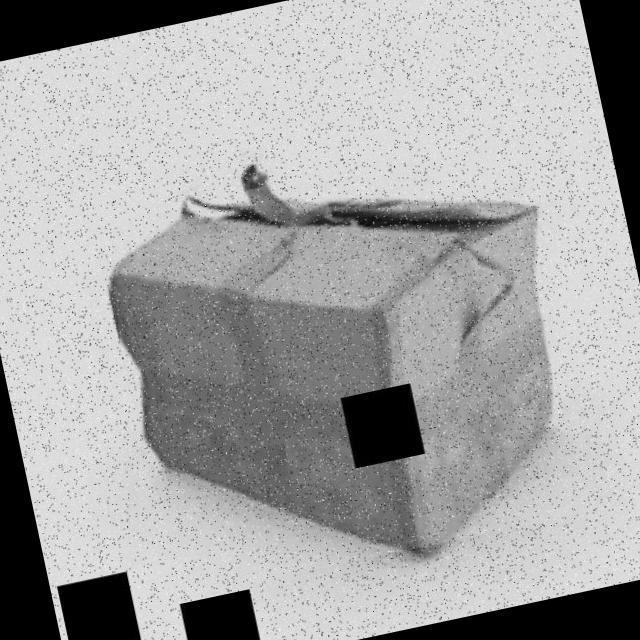box: (80, 132, 597, 602)
